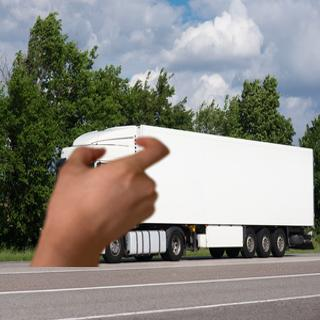HATE: (32, 134, 173, 258)
